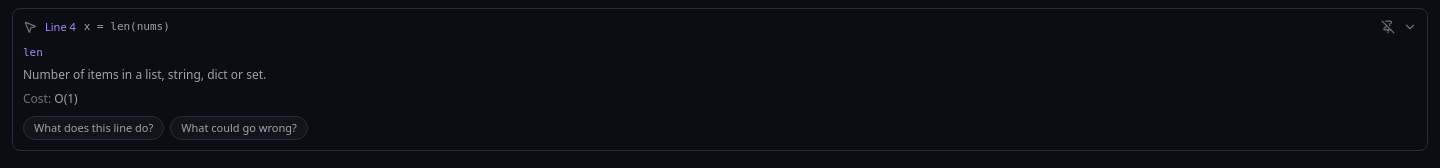
LineInsight › collapses
Click the button named "Collapse line insight": point(1410, 27) [1403,20,1417,34]
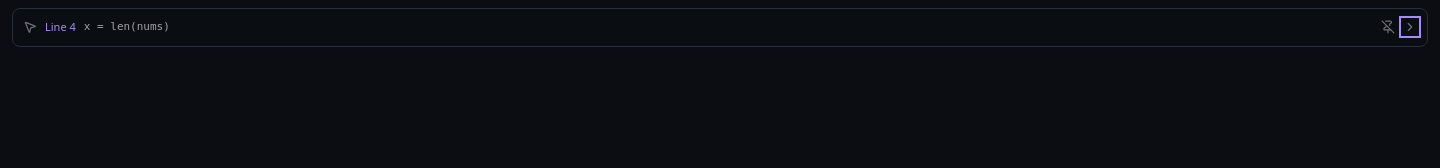
Now the text "Number of items" is gone
